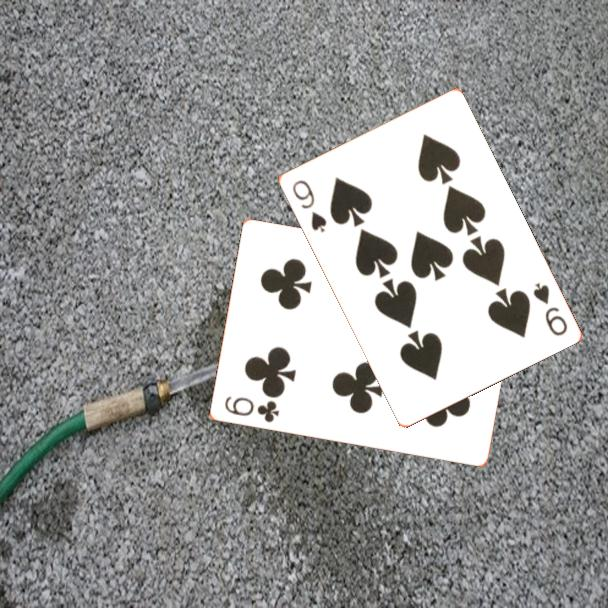c06: (221, 393, 282, 425)
s09: (529, 279, 570, 339), (288, 176, 329, 235)
